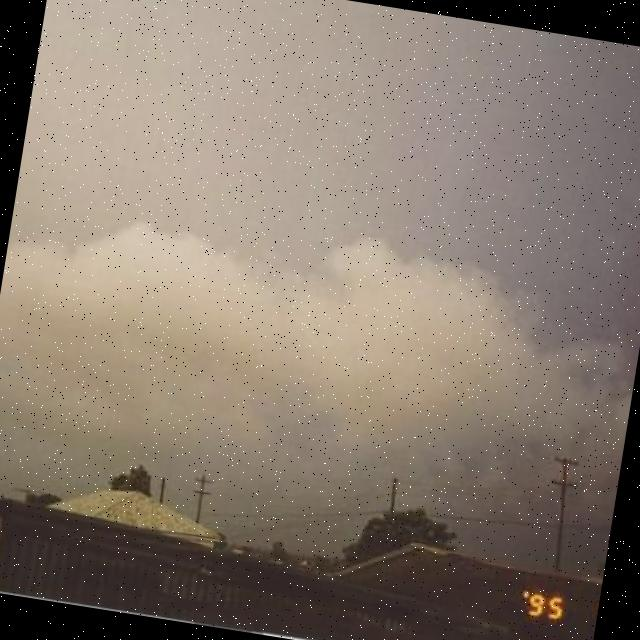Ns: (1, 1, 640, 469)
